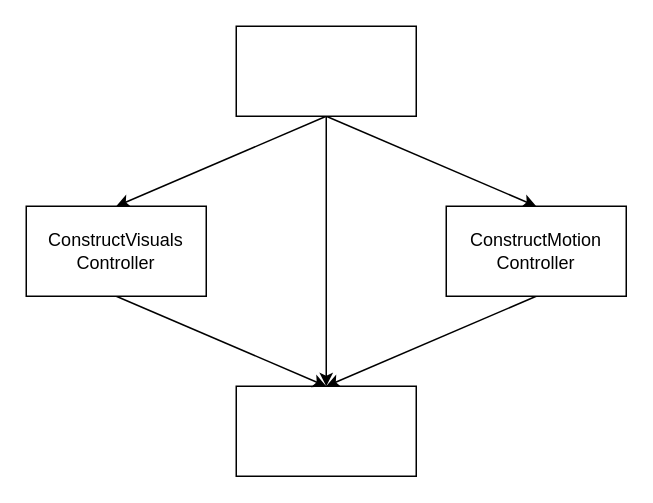
The diagram is 653 pixels wide and 503 high, and some of its shapes have lost their labels. Here are the shapes that lost their labels. From the top down, the centre of each, then its label:
At point (325, 70): "Construct".
At point (325, 430): "ConstructTransform".
